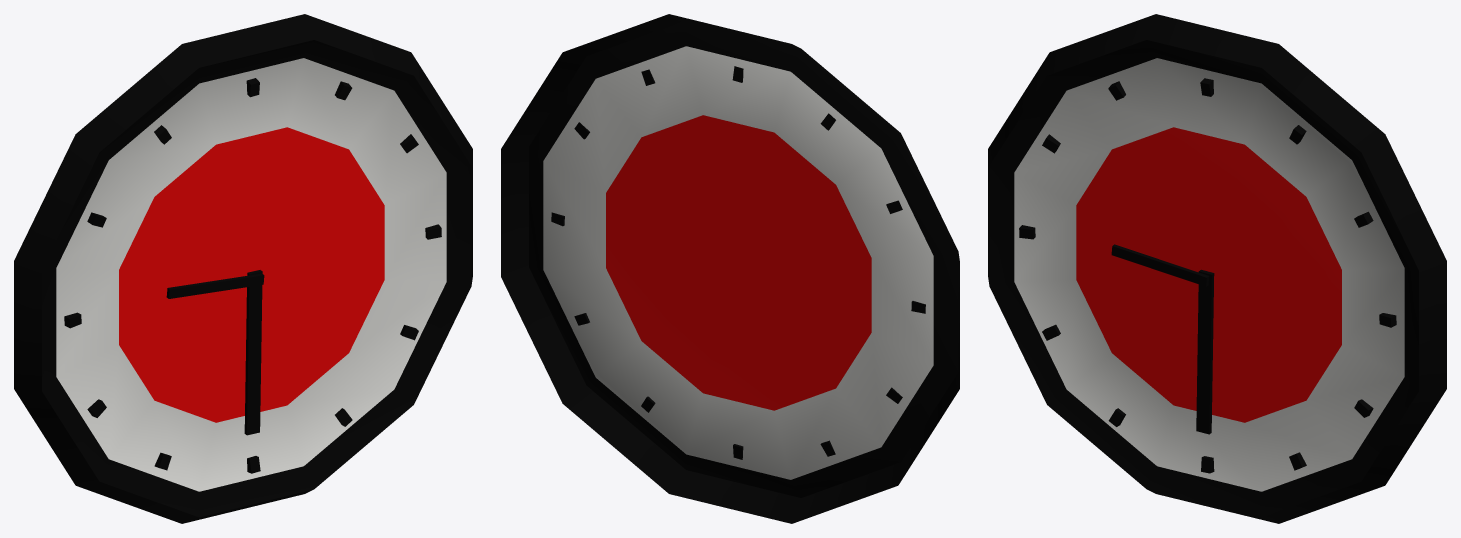
Rendered from RE_ClockRoom01.FBX.
3 renders of one model, left to right at view 1: azimuth 30°, elevation 25°; view 2: azimuth 150°, elevation 25°; view 3: azimuth 330°, elevation 25°, orthographic.
Visible parts, largest first — view 1: RE_ClockRoom01; view 2: RE_ClockRoom01; view 3: RE_ClockRoom01.
Boxes of the visible parts, x1=… form: RE_ClockRoom01: x1=14, y1=14, x2=472, y2=523; RE_ClockRoom01: x1=501, y1=14, x2=959, y2=523; RE_ClockRoom01: x1=988, y1=14, x2=1446, y2=523.
Size of the model in its own units: 36.5 by 36.5 by 2.17.
